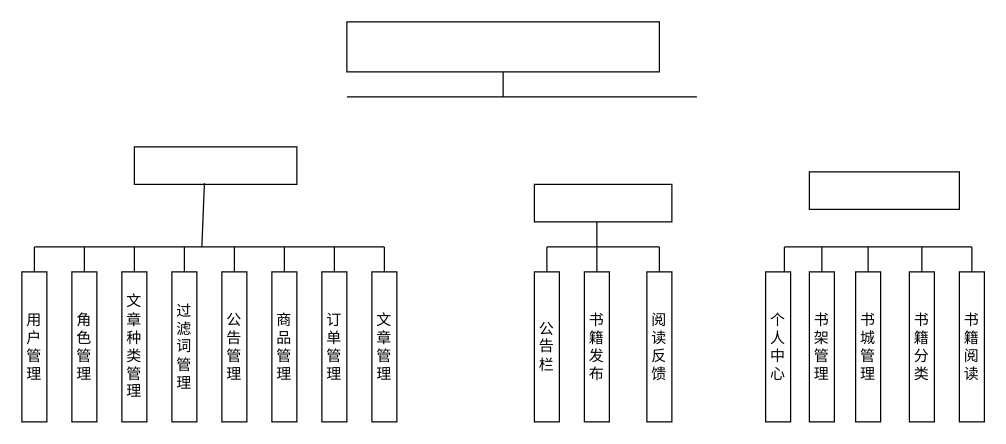
Some shapes in this 1006 by 444 pixel diagram are drawn without their labels. Here are the shapes that lost their labels. From the top down, the centre of each, then its label:
[502,46]: 老年人移动报刊阅读系统
[215,165]: 管理员后台管理子系统
[602,202]: 作者控制台子系统
[883,190]: 读者小说阅读子系统
